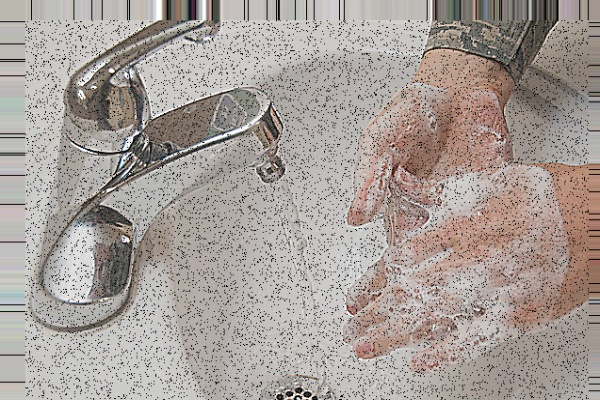washing hand: (166, 28, 584, 399)
